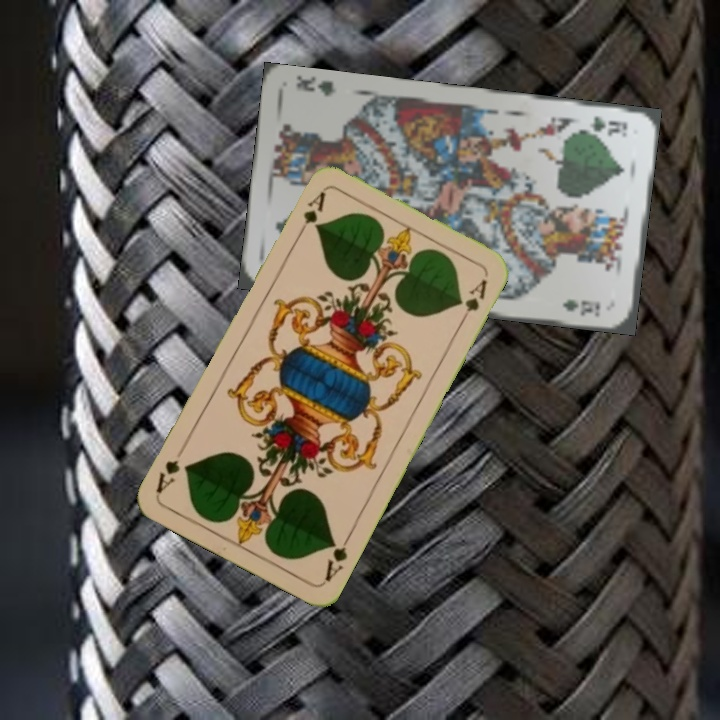GA: (293, 187, 329, 241), (320, 529, 354, 585)
GK: (585, 112, 630, 139)
